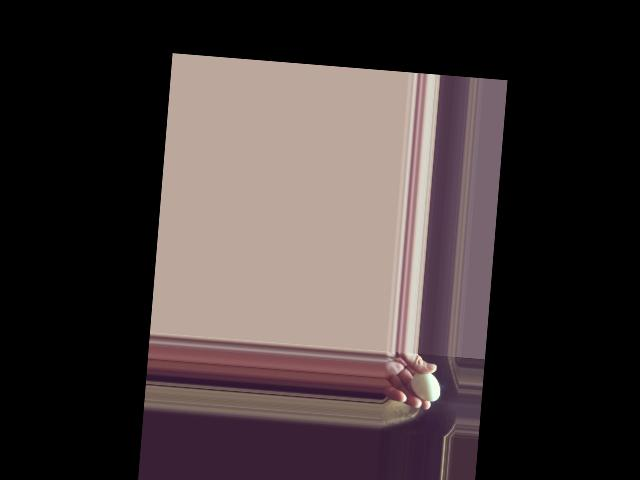egg: (409, 371, 441, 401)
